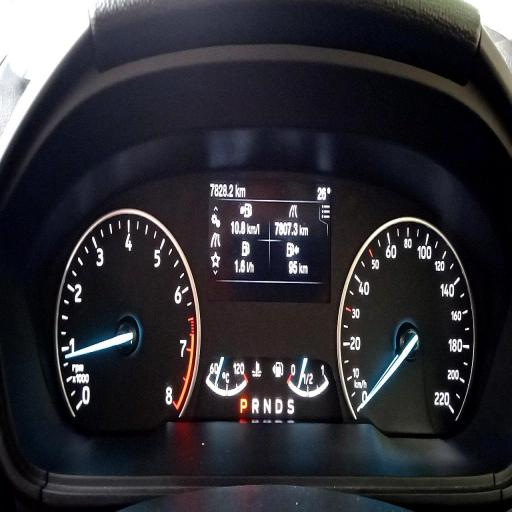tachometer: (56, 205, 202, 433)
